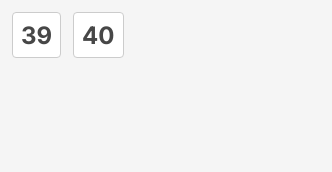
Test: <ProductOptions /> › marca a opção selecionada
The image size is (332, 172).
Click the button "40" at (98, 35), box [73, 12, 124, 58]
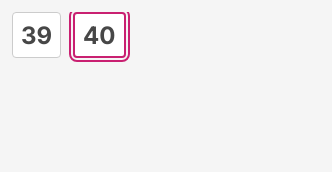
Check: the button "40" has class "is-selected", box [73, 12, 126, 58]
